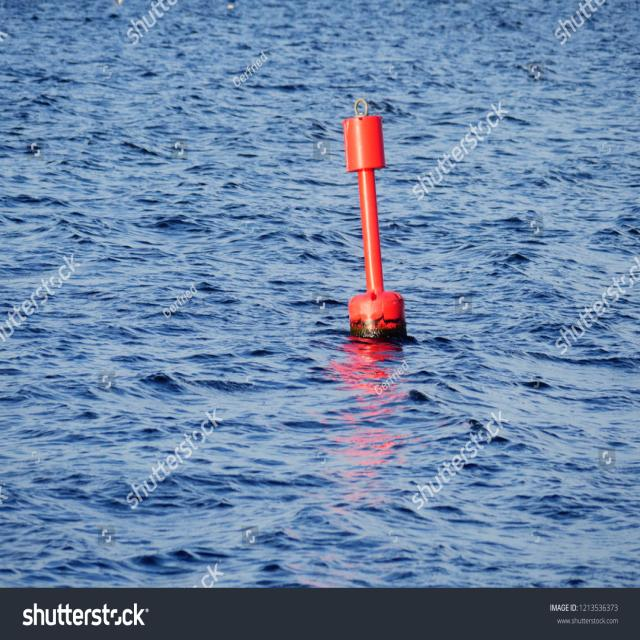buoy: (328, 72, 414, 367)
